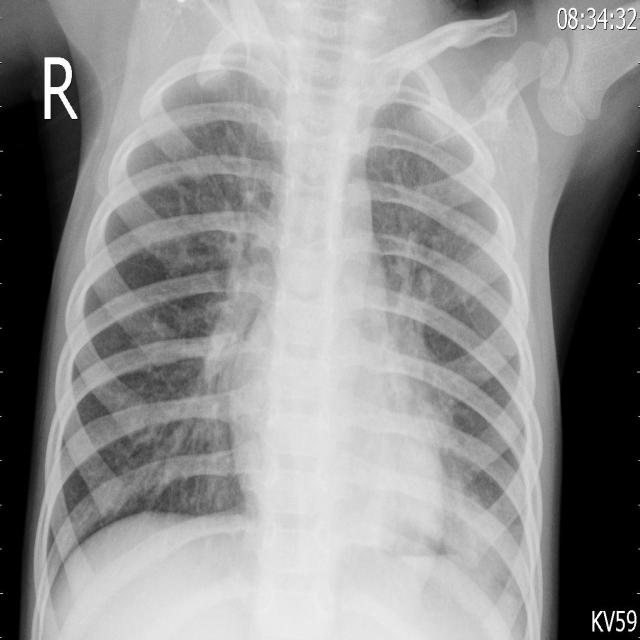low-pneumonia: (202, 174, 277, 413), (379, 252, 443, 435), (444, 479, 516, 569)
